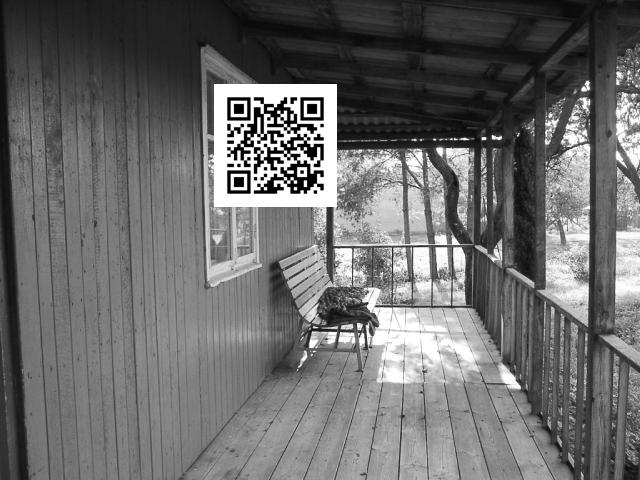qr_code: (214, 84, 338, 206)
